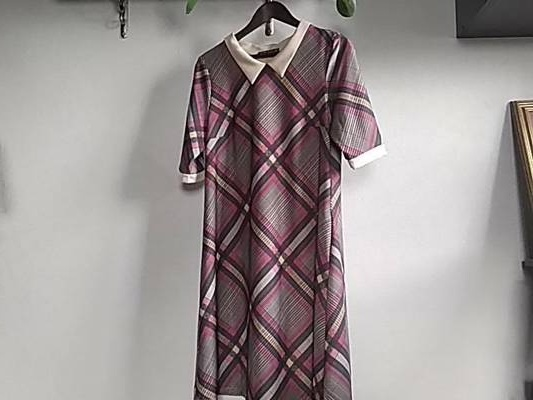Dress: (172, 8, 400, 397)
